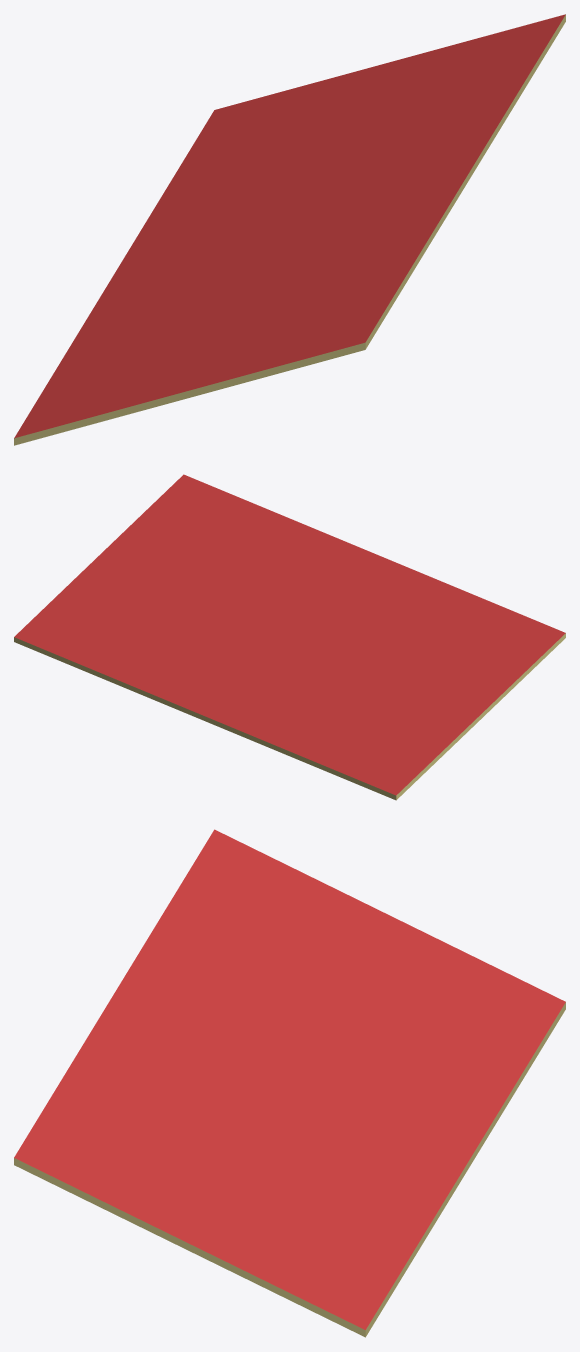
3 views of the same model, one above another, from view 1: azimuth 90°, elevation 25°; view 2: azimuth 150°, elevation 25°; view 3: azimuth 270°, elevation 25° (orthographic). The views are drawn at different scales.
Bounding box in the file's own units: 10.7 × 6.81 × 1.93.
